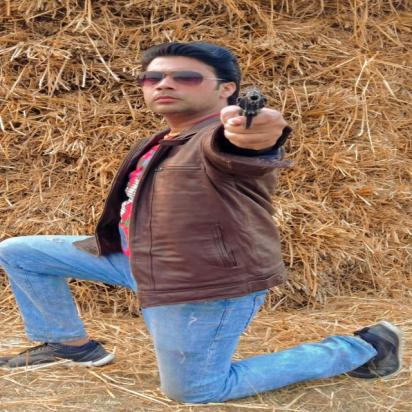Gun: (234, 86, 272, 143)
